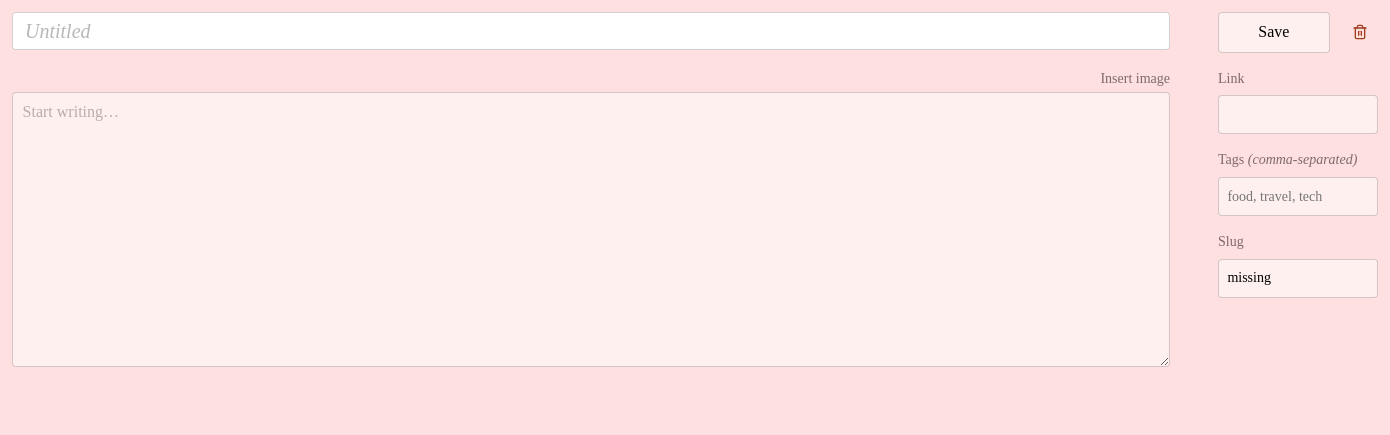
Test: PostForm › shows server error message when API returns non-2xx
The image size is (1390, 435).
Step 1. Type "whatever" into the text box with placeholder "Start writing…" → (591, 229), box [12,92,1170,367]
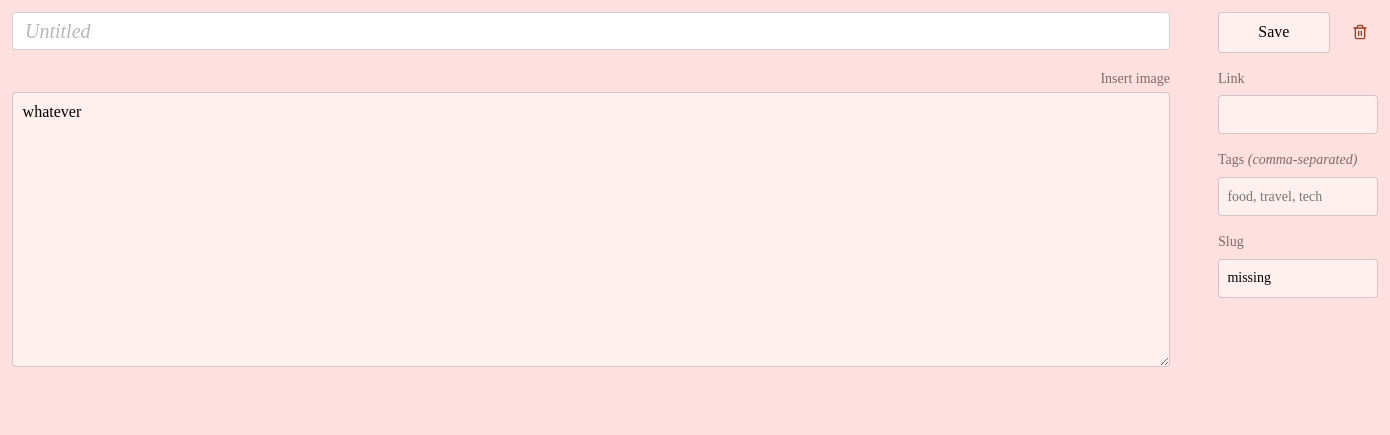
Step 2. Click the button "Save" → (1274, 32), box [1218,12,1330,53]
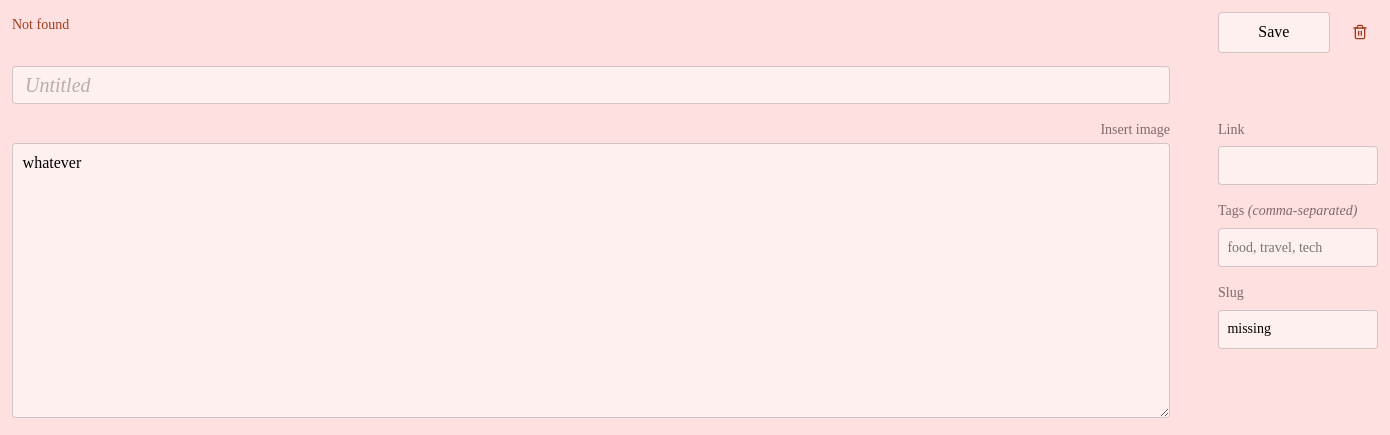
Expected: the message reads "Not found", [12,17,69,32]
